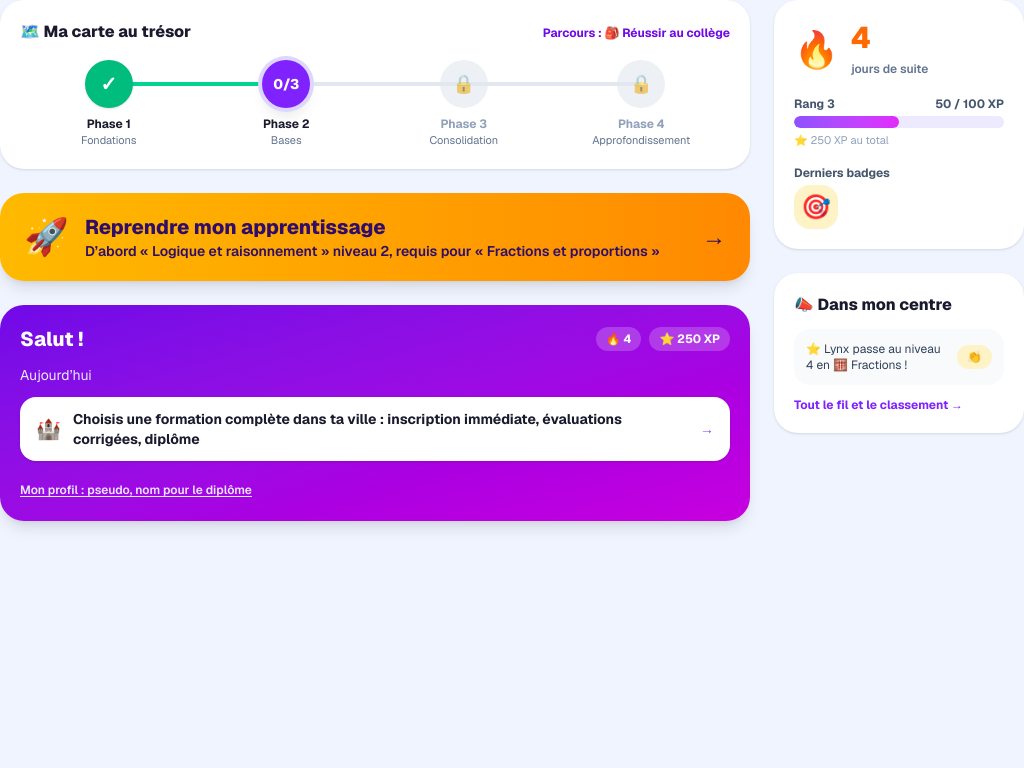
Test case: learner command center › shows the centre feed with a Bravo button
The width and height of the screenshot is (1024, 768).
Step 1. Click the button named "Bravo à Lynx" → x=974, y=356, box [957,344,992,368]
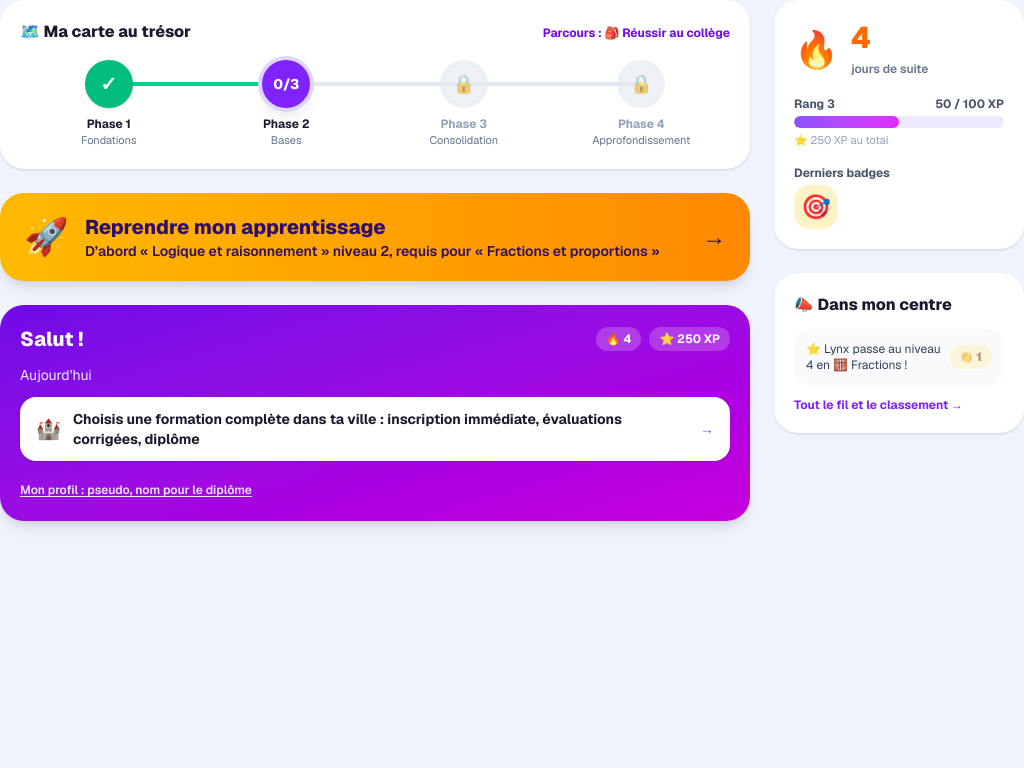
Expected: the button named "Bravo à Lynx" is disabled, [949,344,992,368]
